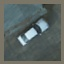car: (16, 19, 50, 47)
